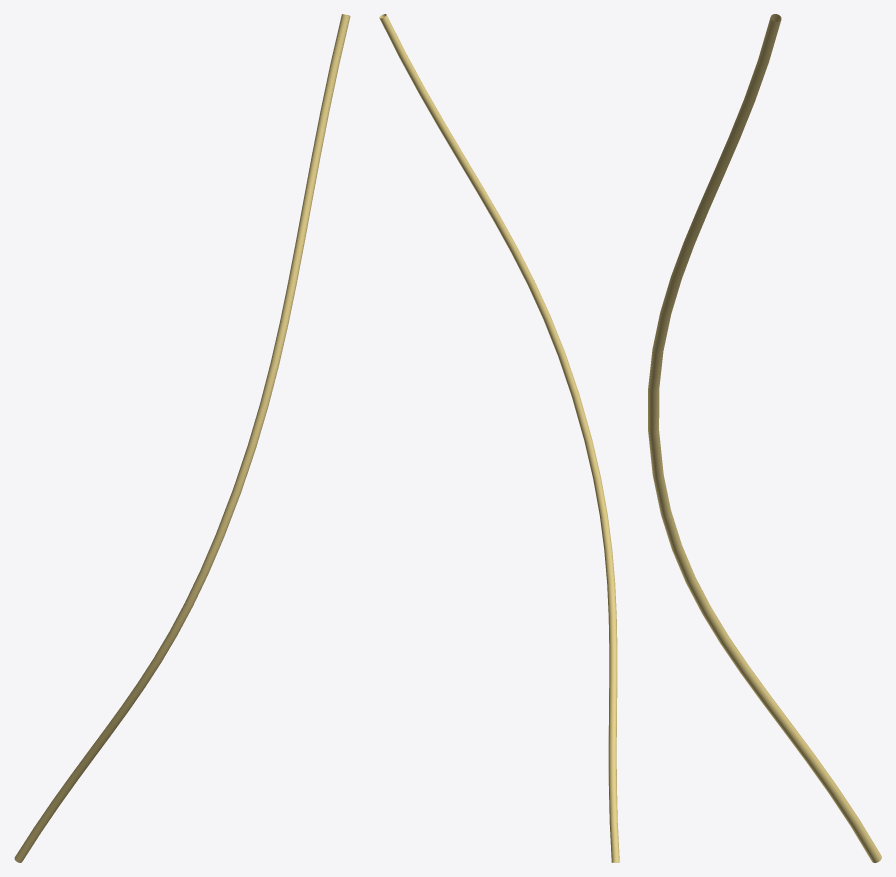
3 views of the same model, side by side, from view 1: azimuth 30°, elevation 25°; view 2: azimuth 150°, elevation 25°; view 3: azimuth 270°, elevation 25° (orthographic). The views are drawn at different scales.
Visible parts, largest first — view 1: ZA_08103adb5b35700b; view 2: ZA_08103adb5b35700b; view 3: ZA_08103adb5b35700b.
Boxes of the visible parts, x1,y1,x2,y2 form: ZA_08103adb5b35700b: [14, 14, 350, 862]; ZA_08103adb5b35700b: [379, 14, 619, 862]; ZA_08103adb5b35700b: [648, 14, 881, 862].
Size of the model in its own units: 0.0386 by 0.1008 by 0.0209.
